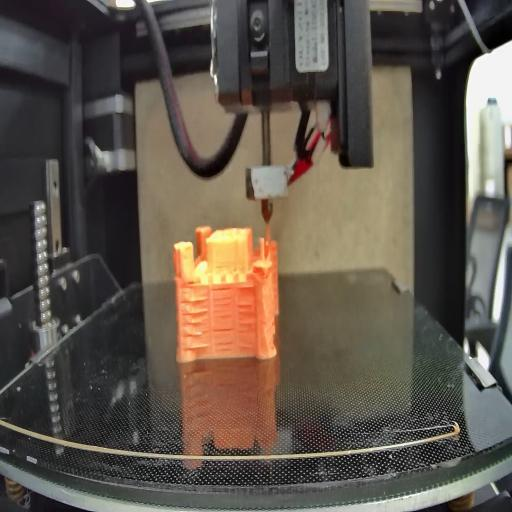cracks: (210, 288, 234, 356), (181, 297, 210, 348), (237, 283, 256, 352), (186, 273, 200, 290), (213, 259, 232, 271)
